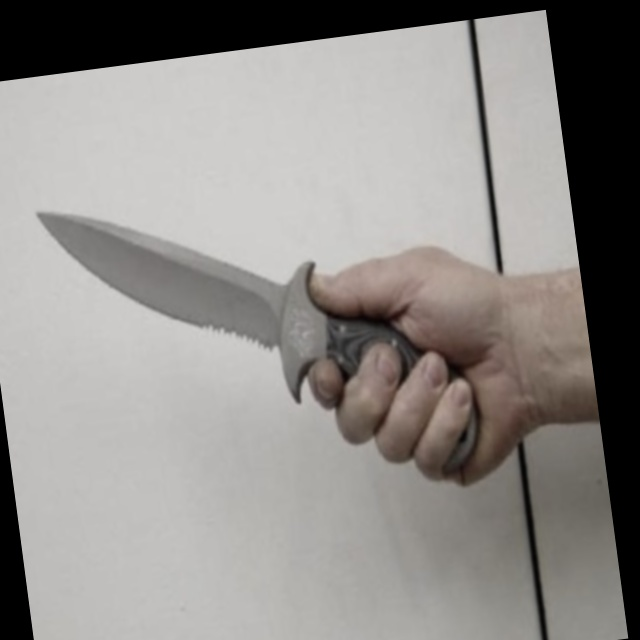Sharp-Object: (37, 158, 485, 519)
